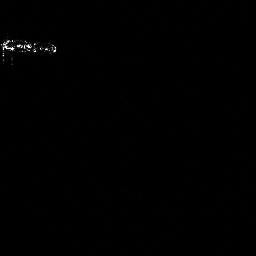ship: (1, 37, 57, 62)
